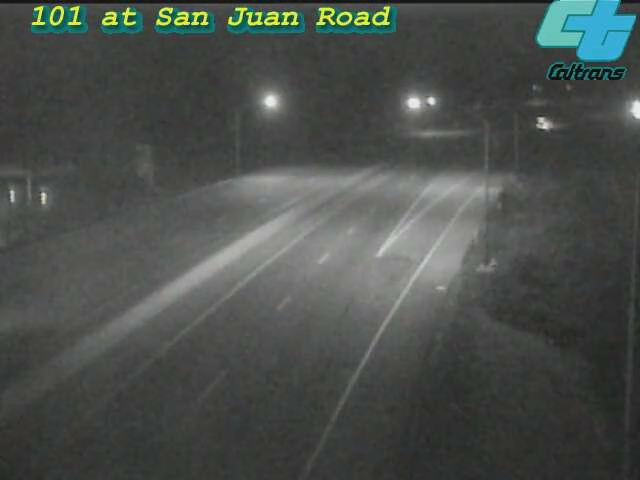vehicle: (522, 98, 572, 148), (612, 85, 640, 135)
